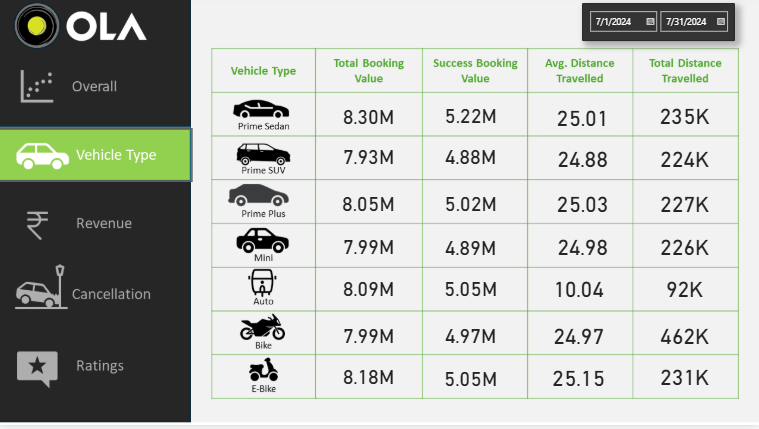

The page's visual inventory and layout, read from the dashboard file:
{"tool":"powerbi","page":{"name":"Vehicle Type","canvas":[1280,720],"ordinal":1},"visuals":[{"type":"actionButton","box":[0,222.5,327.4,90.7],"z":0},{"type":"actionButton","box":[0,583.9,327.4,90.7],"z":1000},{"type":"actionButton","box":[20,603.9,327.4,90.7],"z":2000},{"type":"actionButton","box":[0,222.2,327,93.7],"z":3000},{"type":"actionButton","box":[0,338.1,327,93.7],"z":4000},{"type":"actionButton","box":[0,442.9,327,93.7],"z":5000},{"type":"actionButton","box":[0,577.8,327,93.7],"z":6000},{"type":"actionButton","box":[0,109.5,327,93.7],"z":7000},{"type":"cardVisual","fields":{"Data":["Sum(July (3).Booking_Value)"]},"box":[536.5,166.7,171.4,68],"z":8000},{"type":"cardVisual","fields":{"Data":["Sum(July (3).Booking_Value)"]},"box":[535.9,233.5,171.3,68.9],"z":9000},{"type":"cardVisual","fields":{"Data":["Sum(July (3).Booking_Value)"]},"box":[535.9,312.4,171.3,68.9],"z":10000},{"type":"cardVisual","fields":{"Data":["Sum(July (3).Booking_Value)"]},"box":[535.9,534.2,171.3,68.9],"z":11000},{"type":"cardVisual","fields":{"Data":["Sum(July (3).Booking_Value)"]},"box":[535.9,603,171.3,68.9],"z":12000},{"type":"cardVisual","fields":{"Data":["Sum(July (3).Booking_Value)"]},"box":[535.9,455.2,171.3,68.9],"z":13000},{"type":"cardVisual","fields":{"Data":["Sum(July (3).Booking_Value)"]},"box":[535.9,384.7,171.3,68.9],"z":14000},{"type":"cardVisual","fields":{"Data":["Sum(July (3).Booking_Value)"]},"box":[707.2,164.6,171.3,68.9],"z":15000},{"type":"cardVisual","fields":{"Data":["Sum(July (3).Booking_Value)"]},"box":[707.2,233.5,171.3,68.9],"z":16000},{"type":"cardVisual","fields":{"Data":["Sum(July (3).Booking_Value)"]},"box":[707.2,312.4,171.3,68.9],"z":17000},{"type":"cardVisual","fields":{"Data":["Sum(July (3).Booking_Value)"]},"box":[707.2,386.4,171.3,68.9],"z":18000},{"type":"cardVisual","fields":{"Data":["Sum(July (3).Booking_Value)"]},"box":[707.2,455.2,171.3,68.9],"z":19000},{"type":"cardVisual","fields":{"Data":["Sum(July (3).Booking_Value)"]},"box":[707.2,534.2,171.3,68.9],"z":20000},{"type":"cardVisual","fields":{"Data":["Sum(July (3).Booking_Value)"]},"box":[707.2,606.4,171.3,68.9],"z":21000},{"type":"cardVisual","fields":{"Data":["Avg(July (3).Ride_Distance)"]},"box":[895.3,168,171.3,68.9],"z":22000},{"type":"cardVisual","fields":{"Data":["Avg(July (3).Ride_Distance)"]},"box":[895.3,312.4,171.3,68.9],"z":23000},{"type":"cardVisual","fields":{"Data":["Avg(July (3).Ride_Distance)"]},"box":[895.3,384.7,171.3,68.9],"z":24000},{"type":"cardVisual","fields":{"Data":["Avg(July (3).Ride_Distance)"]},"box":[888.6,455.2,171.3,68.9],"z":25000},{"type":"cardVisual","fields":{"Data":["Avg(July (3).Ride_Distance)"]},"box":[888.6,534.2,171.3,68.9],"z":26000},{"type":"cardVisual","fields":{"Data":["Avg(July (3).Ride_Distance)"]},"box":[888.6,604.7,171.3,68.9],"z":27000},{"type":"cardVisual","fields":{"Data":["Avg(July (3).Ride_Distance)"]},"box":[895.3,236.9,171.3,68.9],"z":28000},{"type":"cardVisual","fields":{"Data":["Sum(July (3).Ride_Distance)"]},"box":[1066.7,164.6,171.3,68.9],"z":29000},{"type":"cardVisual","fields":{"Data":["Sum(July (3).Ride_Distance)"]},"box":[1066.7,236.9,171.3,68.9],"z":30000},{"type":"cardVisual","fields":{"Data":["Sum(July (3).Ride_Distance)"]},"box":[1066.7,312.4,171.3,68.9],"z":31000},{"type":"cardVisual","fields":{"Data":["Sum(July (3).Ride_Distance)"]},"box":[1066.7,384.7,171.3,68.9],"z":32000},{"type":"cardVisual","fields":{"Data":["Sum(July (3).Ride_Distance)"]},"box":[1066.7,455.2,171.3,68.9],"z":33000},{"type":"cardVisual","fields":{"Data":["Sum(July (3).Ride_Distance)"]},"box":[1066.7,534.2,171.3,68.9],"z":34000},{"type":"cardVisual","fields":{"Data":["Sum(July (3).Ride_Distance)"]},"box":[1066.7,603,171.3,68.9],"z":35000},{"type":"slicer","title":"Date","fields":{"Values":["July (3).Date"]},"box":[981,12.1,256.9,63.8],"z":36000}]}

Visuals, with their boxes on the page's 1280x720 design canvas (x1, y1, x2, y2). These are canvas units, not pixel positions in the 759x429 screenshot, which may show the page scaled, cropped or inside an application window:
actionButton: box=[0, 222, 327, 313]
actionButton: box=[0, 584, 327, 675]
actionButton: box=[20, 604, 347, 695]
actionButton: box=[0, 222, 327, 316]
actionButton: box=[0, 338, 327, 432]
actionButton: box=[0, 443, 327, 537]
actionButton: box=[0, 578, 327, 672]
actionButton: box=[0, 110, 327, 203]
cardVisual - Sum(July (3).Booking_Value): box=[536, 167, 708, 235]
cardVisual - Sum(July (3).Booking_Value): box=[536, 234, 707, 302]
cardVisual - Sum(July (3).Booking_Value): box=[536, 312, 707, 381]
cardVisual - Sum(July (3).Booking_Value): box=[536, 534, 707, 603]
cardVisual - Sum(July (3).Booking_Value): box=[536, 603, 707, 672]
cardVisual - Sum(July (3).Booking_Value): box=[536, 455, 707, 524]
cardVisual - Sum(July (3).Booking_Value): box=[536, 385, 707, 454]
cardVisual - Sum(July (3).Booking_Value): box=[707, 165, 878, 234]
cardVisual - Sum(July (3).Booking_Value): box=[707, 234, 878, 302]
cardVisual - Sum(July (3).Booking_Value): box=[707, 312, 878, 381]
cardVisual - Sum(July (3).Booking_Value): box=[707, 386, 878, 455]
cardVisual - Sum(July (3).Booking_Value): box=[707, 455, 878, 524]
cardVisual - Sum(July (3).Booking_Value): box=[707, 534, 878, 603]
cardVisual - Sum(July (3).Booking_Value): box=[707, 606, 878, 675]
cardVisual - Avg(July (3).Ride_Distance): box=[895, 168, 1067, 237]
cardVisual - Avg(July (3).Ride_Distance): box=[895, 312, 1067, 381]
cardVisual - Avg(July (3).Ride_Distance): box=[895, 385, 1067, 454]
cardVisual - Avg(July (3).Ride_Distance): box=[889, 455, 1060, 524]
cardVisual - Avg(July (3).Ride_Distance): box=[889, 534, 1060, 603]
cardVisual - Avg(July (3).Ride_Distance): box=[889, 605, 1060, 674]
cardVisual - Avg(July (3).Ride_Distance): box=[895, 237, 1067, 306]
cardVisual - Sum(July (3).Ride_Distance): box=[1067, 165, 1238, 234]
cardVisual - Sum(July (3).Ride_Distance): box=[1067, 237, 1238, 306]
cardVisual - Sum(July (3).Ride_Distance): box=[1067, 312, 1238, 381]
cardVisual - Sum(July (3).Ride_Distance): box=[1067, 385, 1238, 454]
cardVisual - Sum(July (3).Ride_Distance): box=[1067, 455, 1238, 524]
cardVisual - Sum(July (3).Ride_Distance): box=[1067, 534, 1238, 603]
cardVisual - Sum(July (3).Ride_Distance): box=[1067, 603, 1238, 672]
"Date" slicer: box=[981, 12, 1238, 76]
